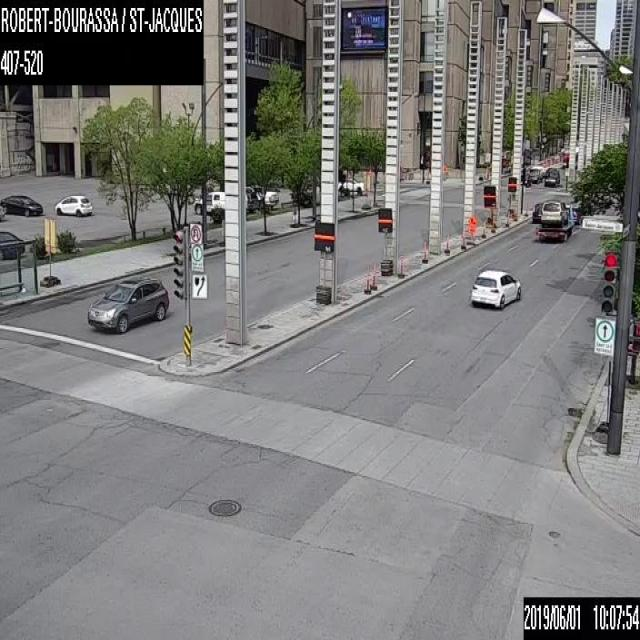bus: (561, 147, 579, 166)
construction: (396, 253, 406, 276), (362, 274, 371, 293), (420, 242, 428, 262), (468, 216, 477, 233), (444, 233, 450, 255), (459, 232, 466, 248), (370, 271, 376, 288), (481, 222, 484, 238), (506, 212, 509, 225), (525, 204, 528, 215)
vehicle: (84, 271, 168, 332), (469, 266, 520, 309), (536, 201, 572, 241), (0, 193, 44, 214), (54, 194, 93, 215), (194, 190, 225, 215), (539, 199, 568, 224), (0, 230, 25, 259), (337, 177, 364, 195), (255, 185, 278, 206), (564, 204, 582, 223), (244, 186, 257, 212), (528, 164, 544, 182), (544, 170, 560, 185), (532, 200, 542, 221)
